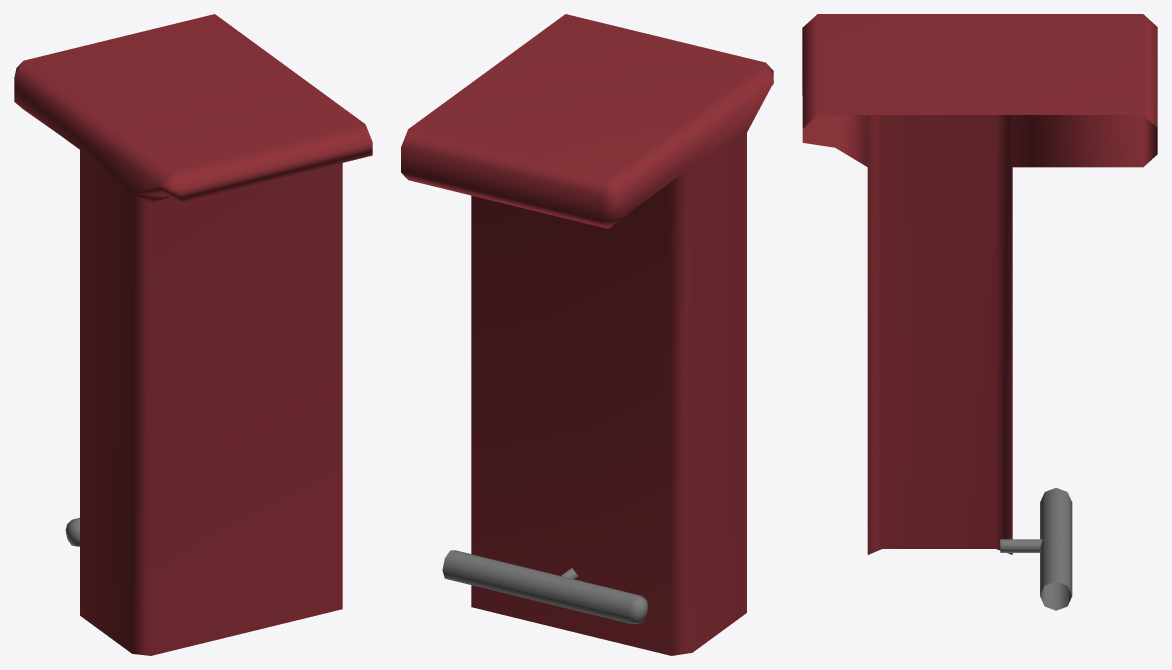
Rendered from Bar set 3.fbx.
The picture shows the model from 3 angles, left to right: view 1: azimuth 30°, elevation 25°; view 2: azimuth 150°, elevation 25°; view 3: azimuth 270°, elevation 25°; orthographic projection. The views are drawn at different scales.
Visible parts, largest first — view 1: pCube14; view 2: pCube14; view 3: pCube14.
Part boxes in pixels (left/top/right/bottom): pCube14: left=14, top=14, right=372, bottom=655; pCube14: left=401, top=14, right=773, bottom=655; pCube14: left=802, top=14, right=1157, bottom=610.
Size of the model in its own units: 43.71 by 103 by 61.31.
